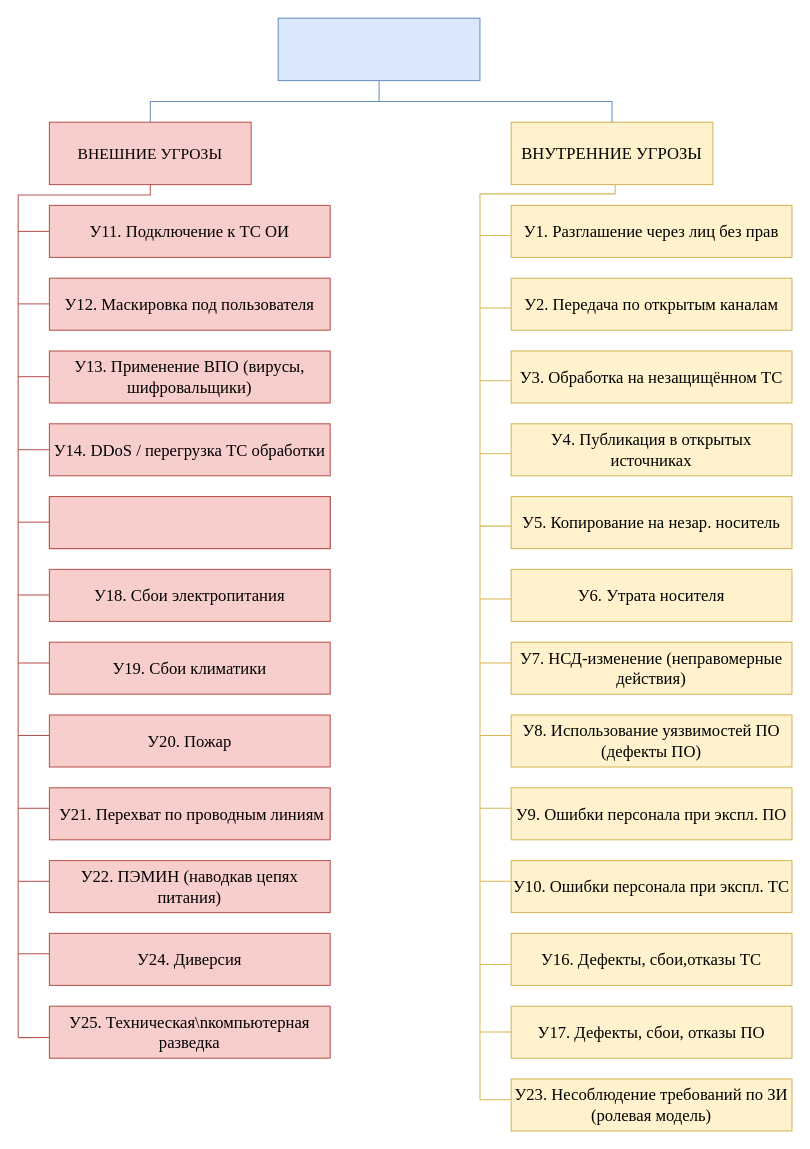
This 810x1149 diagram has some shape labels left out. Each missing label, with the centre of its shape:
"У15. Сетевая атака (SQLi, XSS)" belongs at point 189,522.
"Угрозы ИБ ИАС" belongs at point 378,49.
